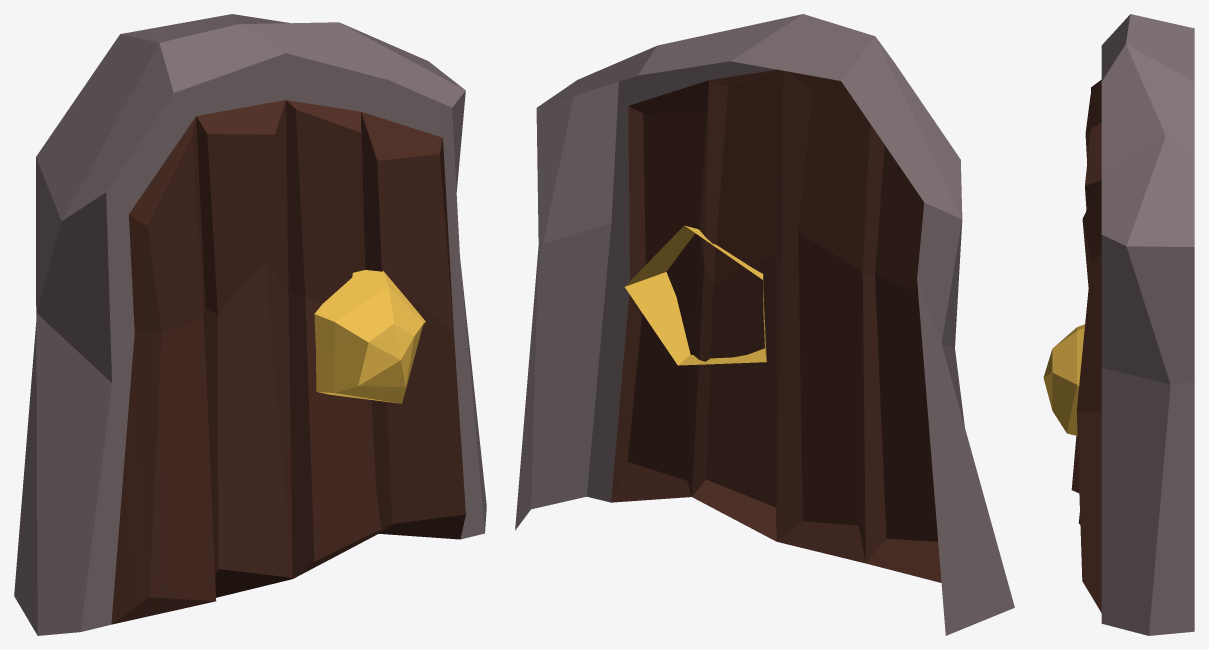
Rendered from SM_L_R_Home_Door.fbx.
The picture shows the model from 3 angles, left to right: view 1: azimuth 30°, elevation 25°; view 2: azimuth 150°, elevation 25°; view 3: azimuth 270°, elevation 25°; orthographic projection. The views are drawn at different scales.
Parts seen in each view (by area): view 1: SM_L_R_Home_Door; view 2: SM_L_R_Home_Door; view 3: SM_L_R_Home_Door.
Part boxes in pixels (bbox=[...]): SM_L_R_Home_Door: bbox=[14, 14, 486, 635]; SM_L_R_Home_Door: bbox=[515, 14, 1014, 635]; SM_L_R_Home_Door: bbox=[1043, 14, 1194, 635].
Size of the model in its own units: 178 by 201 by 57.26.
